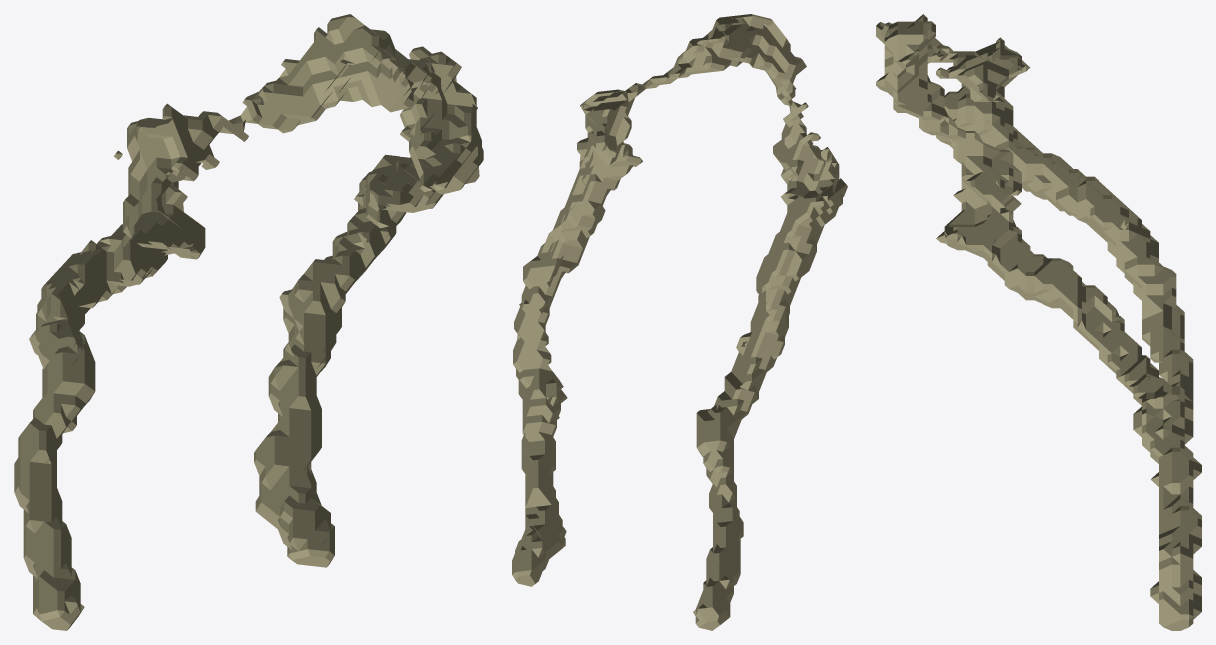
Rendered from region_0089_MOT__medial_olfactory_tract_.glb.
3 views of the same model, side by side, from view 1: azimuth 30°, elevation 25°; view 2: azimuth 150°, elevation 25°; view 3: azimuth 270°, elevation 25° (orthographic). The views are drawn at different scales.
Parts seen in each view (by area): view 1: world; view 2: world; view 3: world.
Part boxes in pixels (left/top/right/bottom): world: left=14, top=14, right=483, bottom=630; world: left=512, top=14, right=847, bottom=630; world: left=876, top=14, right=1201, bottom=630.
Size of the model in its own units: 0.312 by 0.568 by 0.304.
